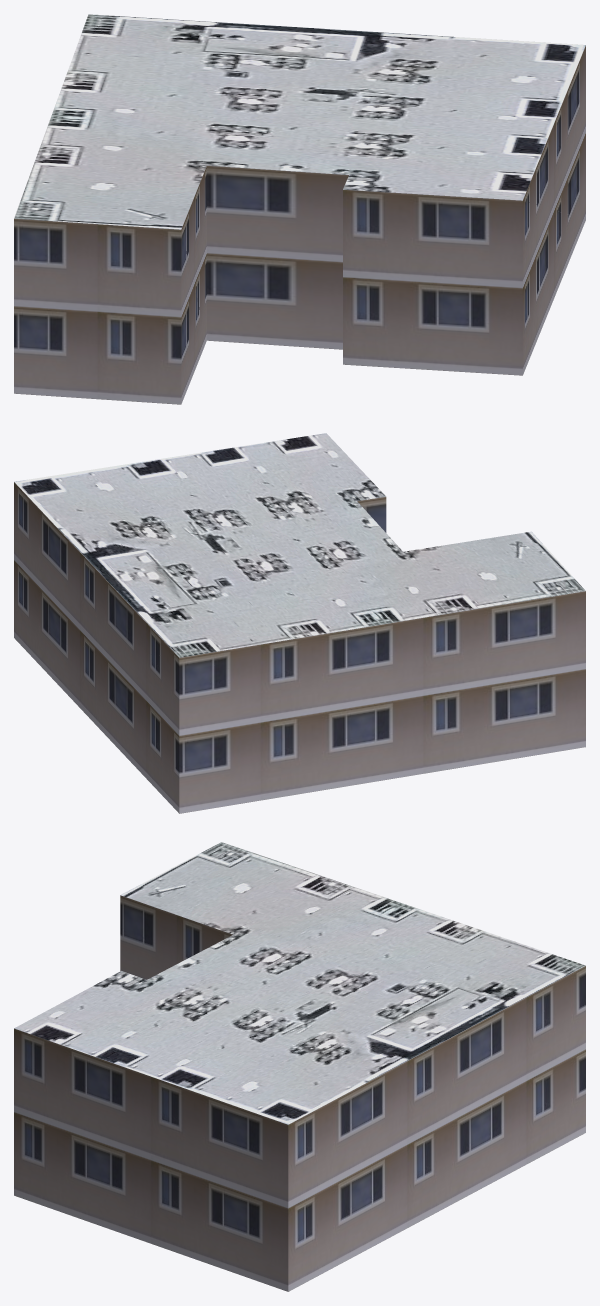
Rendered from ResTex__1153.fbx.
3 views of the same model, one above another, from view 1: azimuth 30°, elevation 25°; view 2: azimuth 150°, elevation 25°; view 3: azimuth 270°, elevation 25° (orthographic). The views are drawn at different scales.
Visible parts, largest first — view 1: CityEngineMaterial_21_m, CityEngineMaterial_4_m; view 2: CityEngineMaterial_21_m, CityEngineMaterial_4_m; view 3: CityEngineMaterial_21_m, CityEngineMaterial_4_m.
Boxes of the visible parts, x1,y1,x2,y2 form: CityEngineMaterial_21_m: (14, 45, 585, 404); CityEngineMaterial_4_m: (14, 14, 585, 229); CityEngineMaterial_21_m: (14, 482, 585, 813); CityEngineMaterial_4_m: (14, 433, 585, 657); CityEngineMaterial_21_m: (14, 895, 585, 1291); CityEngineMaterial_4_m: (14, 842, 585, 1124).
Bounding box in the file's own units: 21.76 × 6 × 18.6.
Materials: 2 (2 with a texture image).
